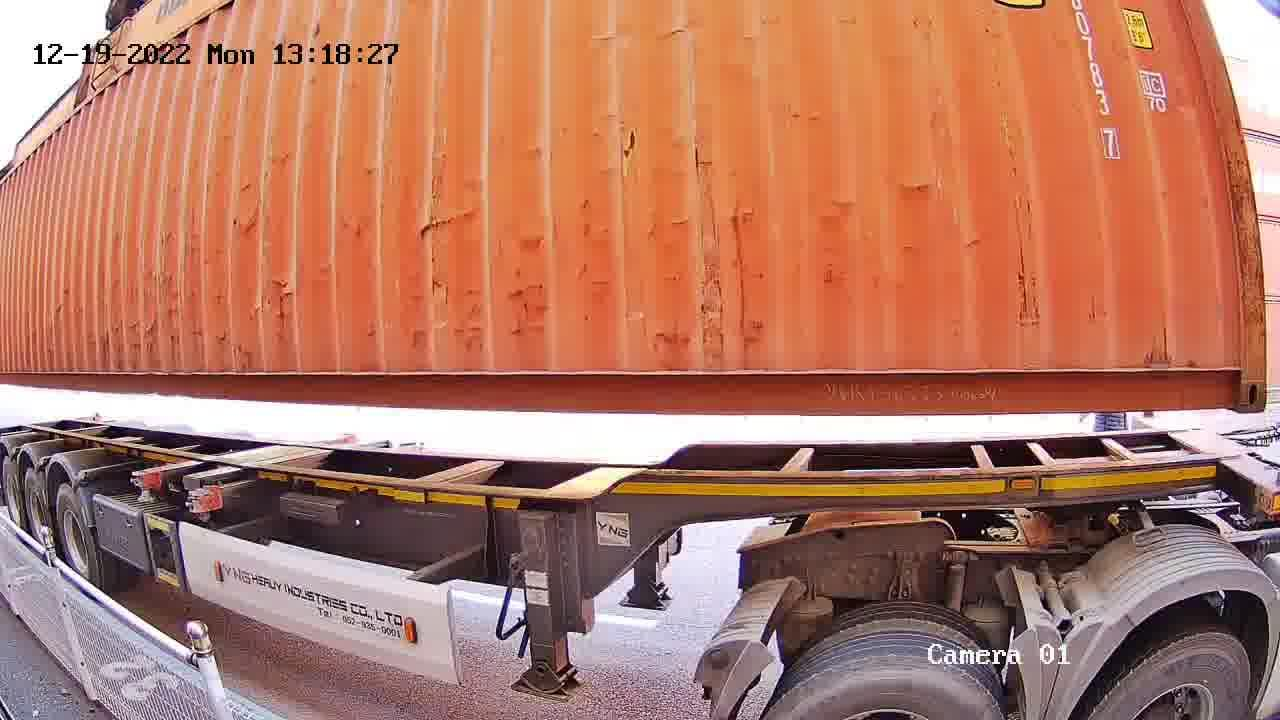Chassis: (1136, 415, 1279, 520)
Hole_R: (1194, 343, 1268, 410)
Tire: (763, 655, 1001, 717), (1093, 637, 1253, 715), (57, 489, 97, 582), (23, 472, 51, 543), (1, 460, 23, 526)
